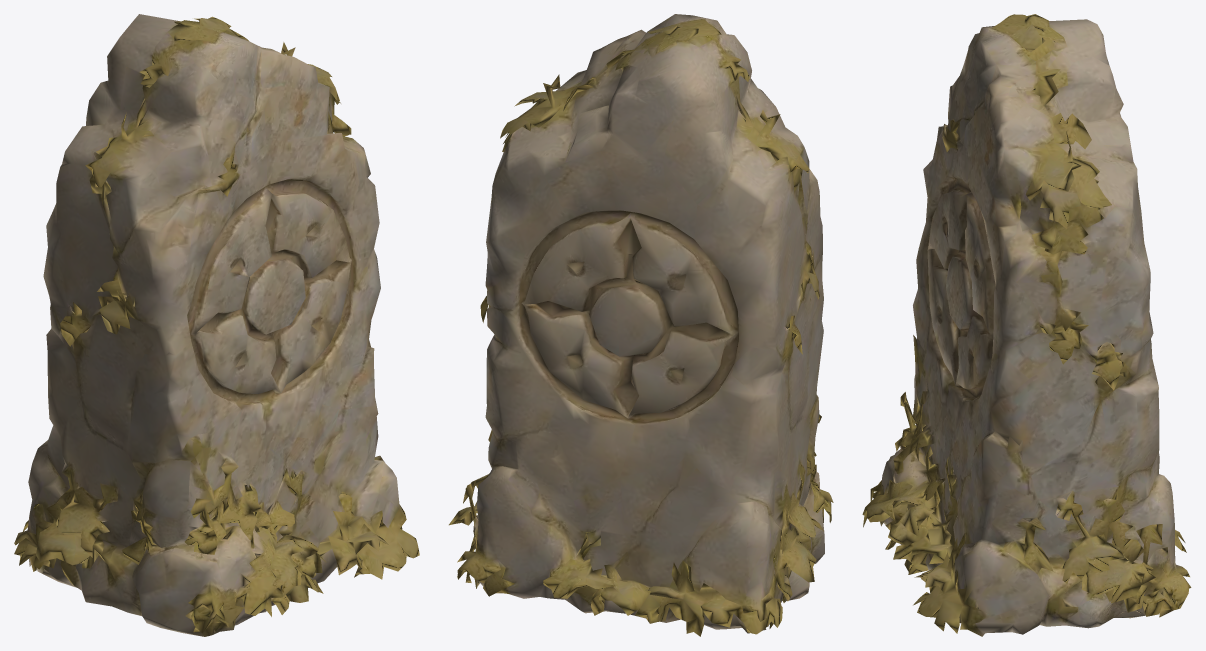
File: rune_stone.glb
The picture shows the model from 3 angles, left to right: view 1: azimuth 30°, elevation 25°; view 2: azimuth 150°, elevation 25°; view 3: azimuth 270°, elevation 25°; orthographic projection. The views are drawn at different scales.
Visible parts, largest first — view 1: tripo_node_2c86e315_e78f_4bfb_98c6_983910b79752__rune; view 2: tripo_node_2c86e315_e78f_4bfb_98c6_983910b79752__rune; view 3: tripo_node_2c86e315_e78f_4bfb_98c6_983910b79752__rune.
Part boxes in pixels (box(x1,y1,x2,y2)): tripo_node_2c86e315_e78f_4bfb_98c6_983910b79752__rune: box(14, 14, 419, 636); tripo_node_2c86e315_e78f_4bfb_98c6_983910b79752__rune: box(449, 14, 833, 636); tripo_node_2c86e315_e78f_4bfb_98c6_983910b79752__rune: box(862, 14, 1191, 636).
Size of the model in its own units: 0.6274 by 1 by 0.5591.
1 material, 1 textured.
